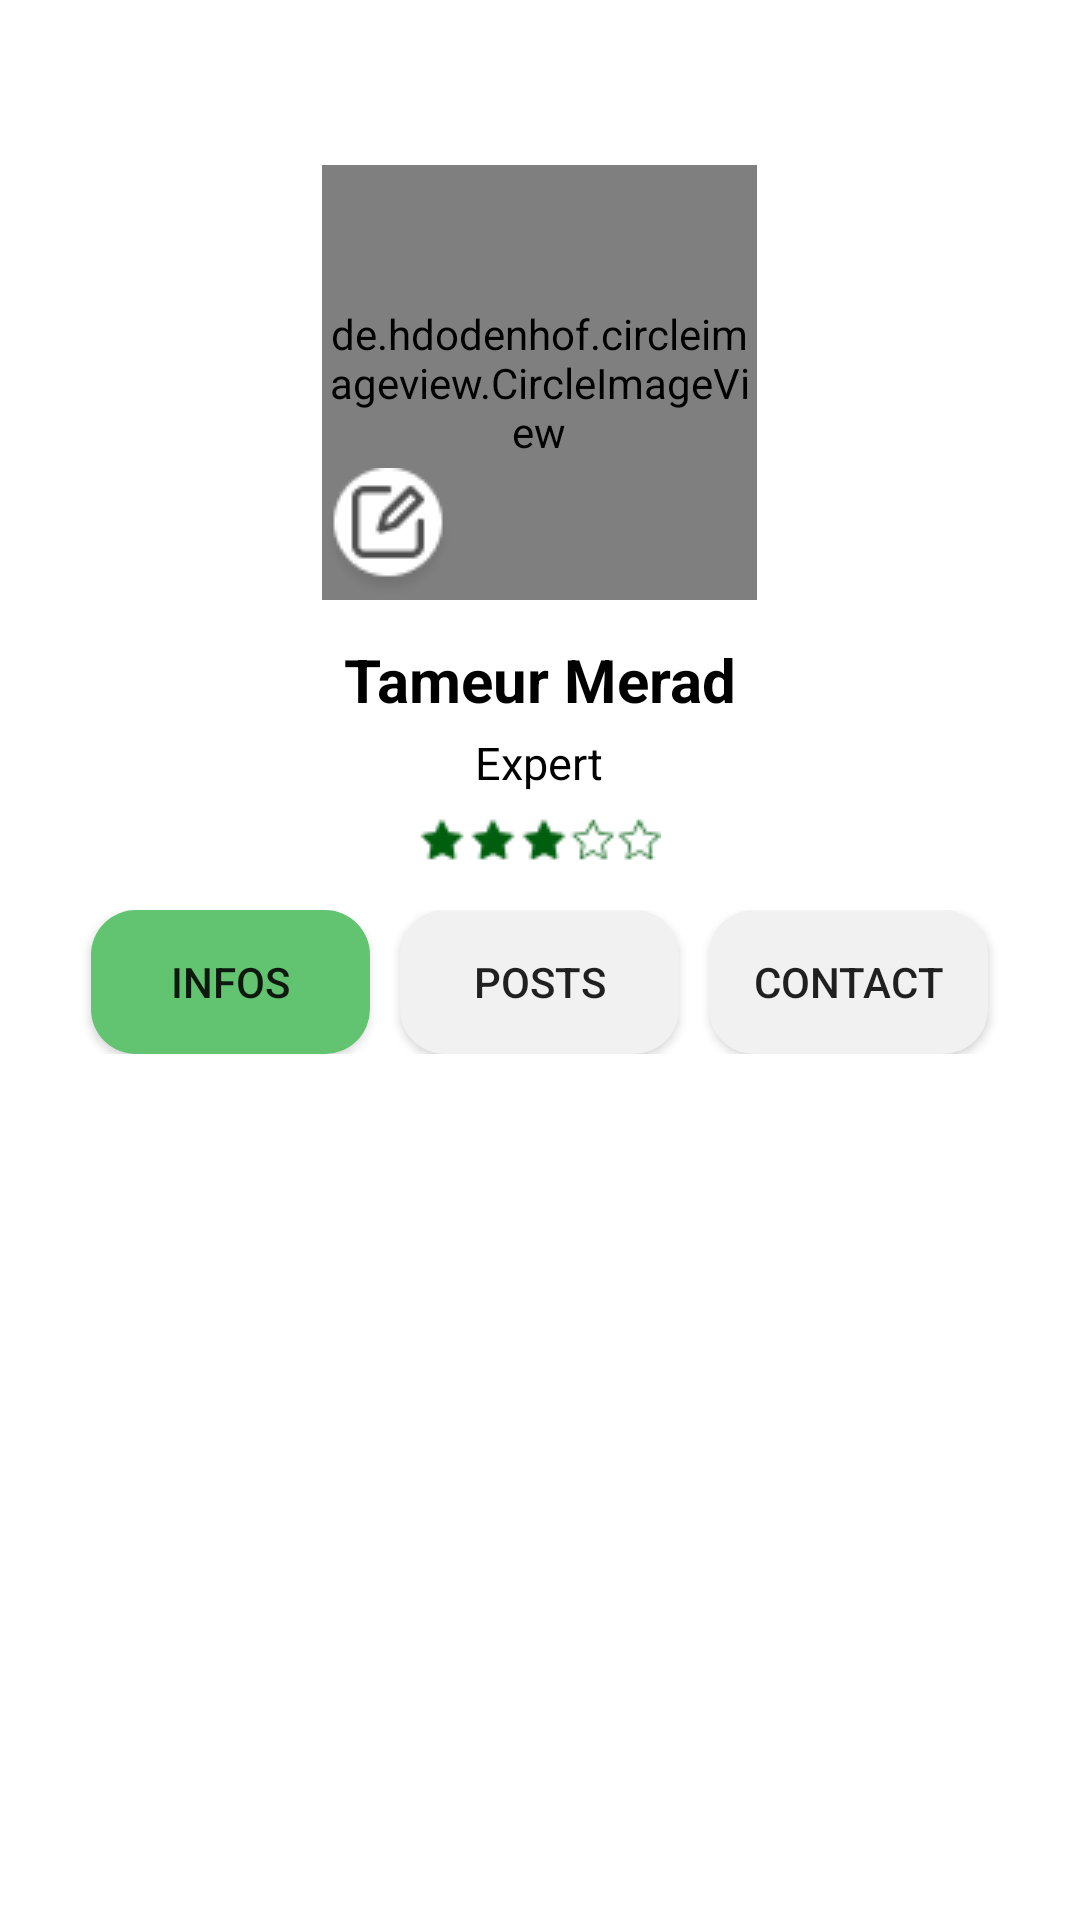

Locate icon controls on the screen. Image size 1080w x 1920h, boxes as (x1, y1, x2, y2).
profil pic change: (333, 468, 443, 577)
starts: (420, 819, 661, 860)
